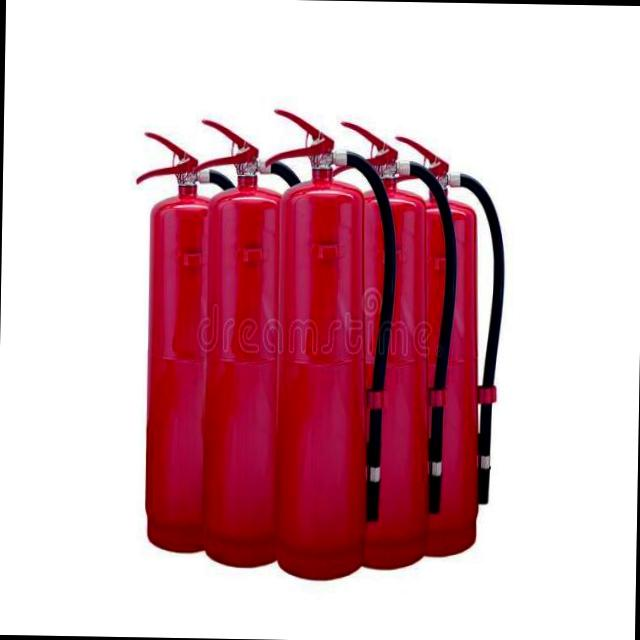FireExtinguisher: (255, 103, 400, 584), (322, 117, 461, 576), (182, 114, 311, 572), (379, 131, 509, 559), (126, 126, 252, 554)
